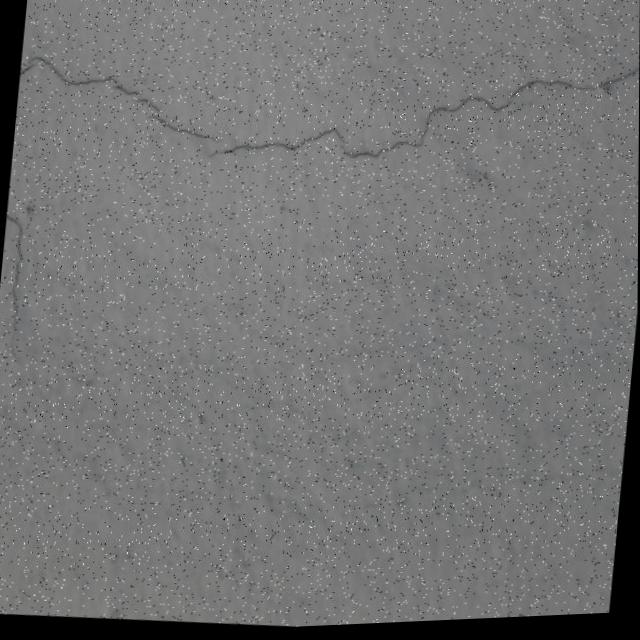Crack: (12, 0, 640, 212), (0, 208, 38, 378)
